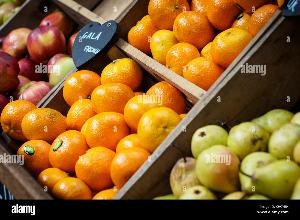apple: (0, 9, 98, 115)
orange: (6, 47, 194, 197), (132, 3, 288, 82)
pear: (166, 86, 300, 200)
